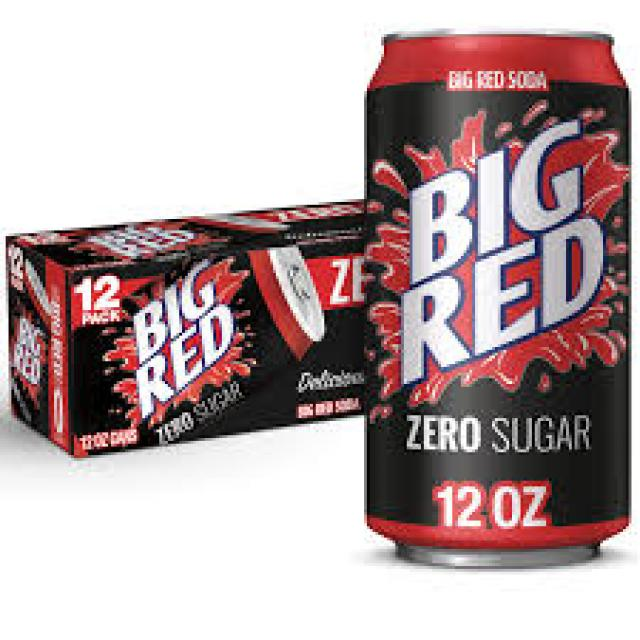Cans: (355, 20, 640, 569)
